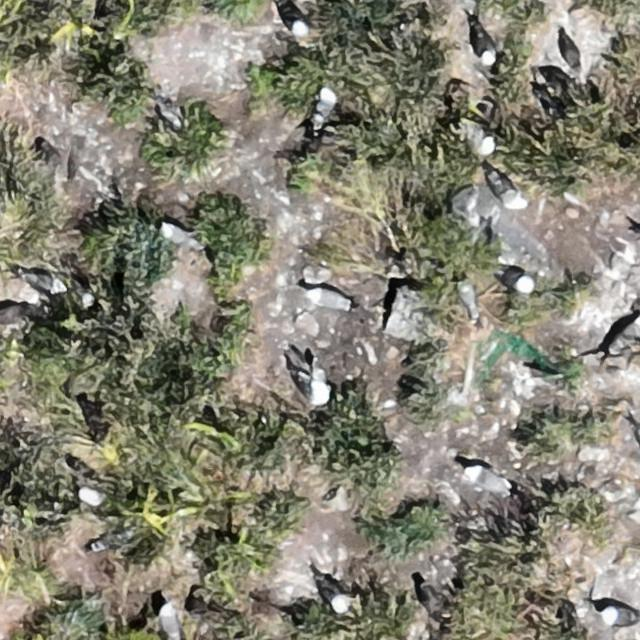umineko: (297, 357, 333, 406), (486, 166, 527, 208), (461, 466, 516, 495), (275, 1, 311, 38), (21, 268, 68, 294), (458, 278, 482, 322), (306, 290, 345, 311), (464, 126, 495, 152), (324, 582, 350, 612), (500, 269, 533, 292), (159, 605, 180, 640), (160, 224, 192, 246), (560, 35, 578, 73), (477, 31, 496, 65), (602, 607, 636, 626), (158, 103, 182, 128), (315, 87, 334, 118), (78, 486, 103, 505)
